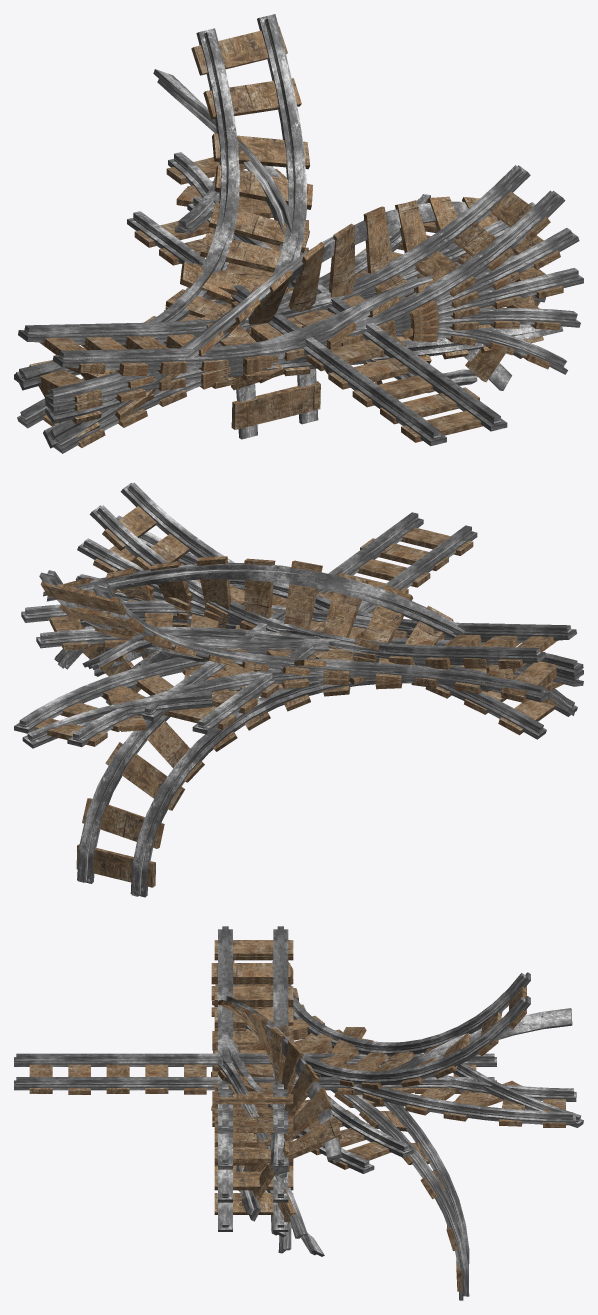
Rendered from rails.FBX.
3 views of the same model, one above another, from view 1: azimuth 30°, elevation 25°; view 2: azimuth 150°, elevation 25°; view 3: azimuth 270°, elevation 25° (orthographic). The views are drawn at different scales.
Visible parts, largest first — view 1: Rail_curved (×8), Rail_twisted (×3), Rail_cross, Rail, Rail_curved_broken, Rail_twisted_broken, Rail_broken; view 2: Rail_curved (×7), Rail_twisted (×2), Rail_cross, Rail, Rail_curved_broken, Rail_twisted_broken; view 3: Rail_curved (×8), Rail_cross, Rail_twisted (×3), Rail, Rail_curved_broken, Rail_twisted_broken.
Part boxes in pixels (x1,y1,x2,y2): Rail_curved (×8): (14,14,580,453); Rail_twisted (×3): (14,196,563,448); Rail_cross: (15,196,583,446); Rail: (18,254,583,371); Rail_curved_broken: (45,69,292,411); Rail_twisted_broken: (200,307,522,393); Rail_broken: (65,322,430,400); Rail_curved (×7): (14,482,583,897); Rail_twisted (×2): (43,556,574,715); Rail_cross: (78,512,544,734); Rail: (78,562,576,666); Rail_curved_broken: (22,633,583,748); Rail_twisted_broken: (94,627,379,676); Rail_curved (×8): (211,929,576,1300); Rail_cross: (14,980,496,1169); Rail_twisted (×3): (211,961,342,1253); Rail: (211,926,293,1169); Rail_curved_broken: (303,1008,583,1127); Rail_twisted_broken: (222,1023,324,1256).
Size of the model in its own units: 154 by 103 by 176.
